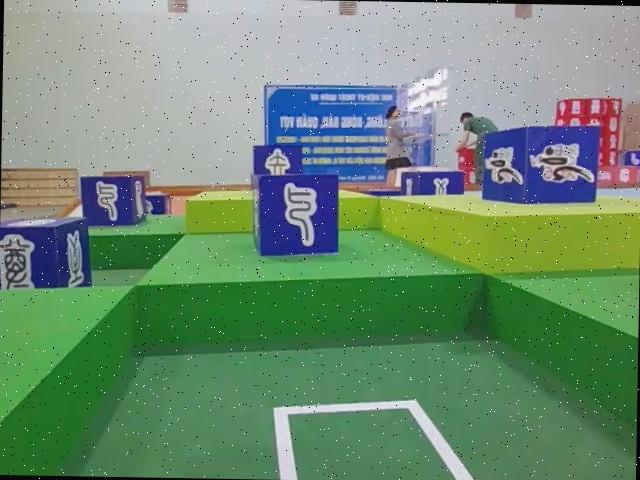R1 Blue: (486, 123, 604, 205)
R2 Fake Blue: (252, 171, 340, 259), (0, 215, 91, 292), (78, 175, 145, 230), (251, 142, 301, 177)
R2 Real Blue: (398, 170, 461, 197)
